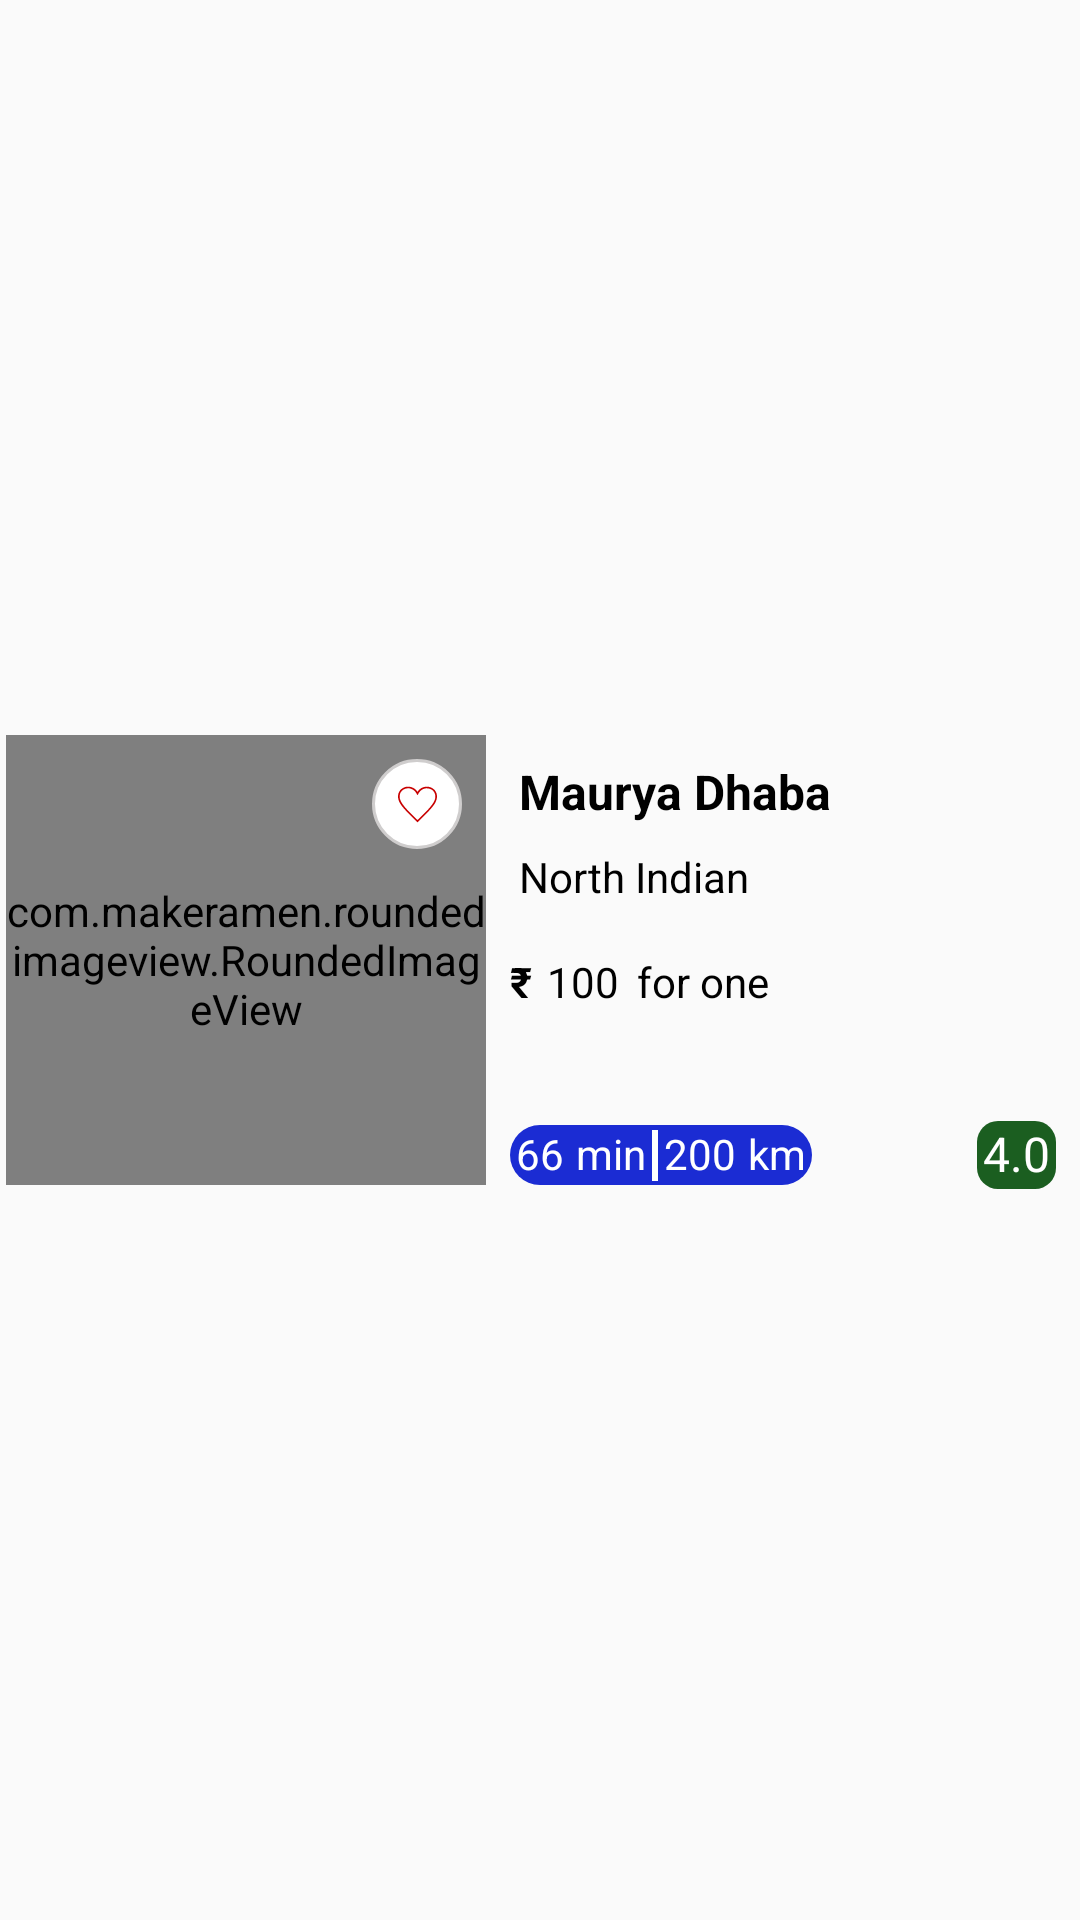

Screen size 1080w x 1920h. Icon name, then its center in pixels as (x,y):
heart: (417,804)
